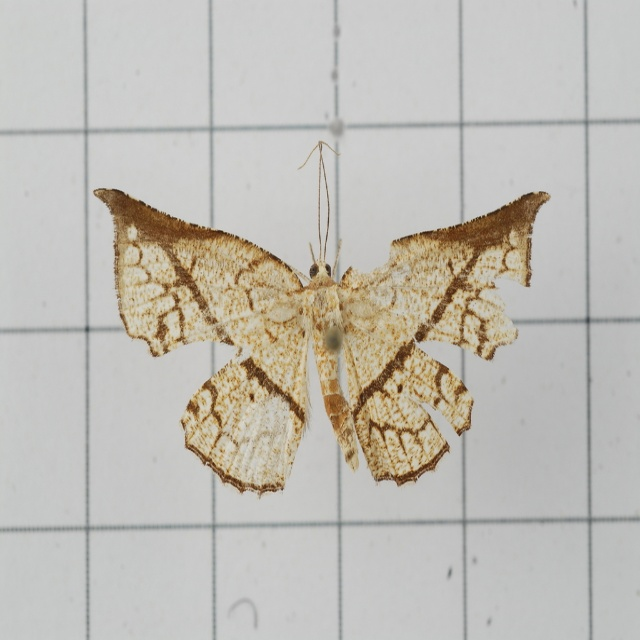Butterfly: (100, 145, 536, 508)
